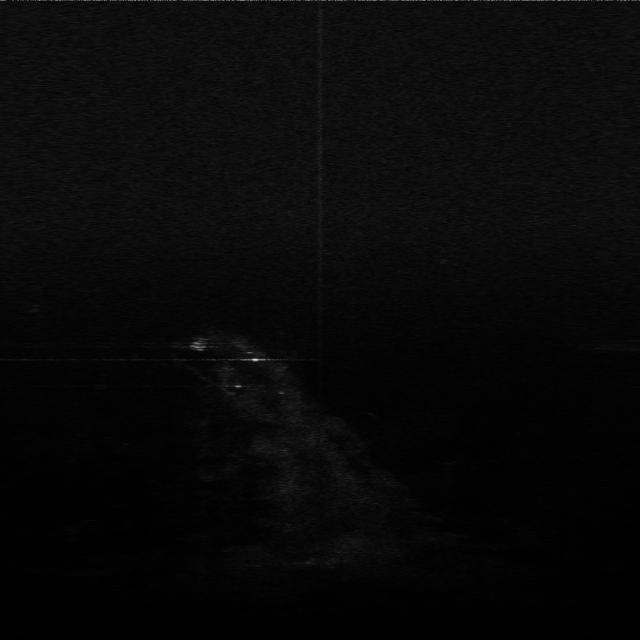rov: (189, 336, 213, 354)
